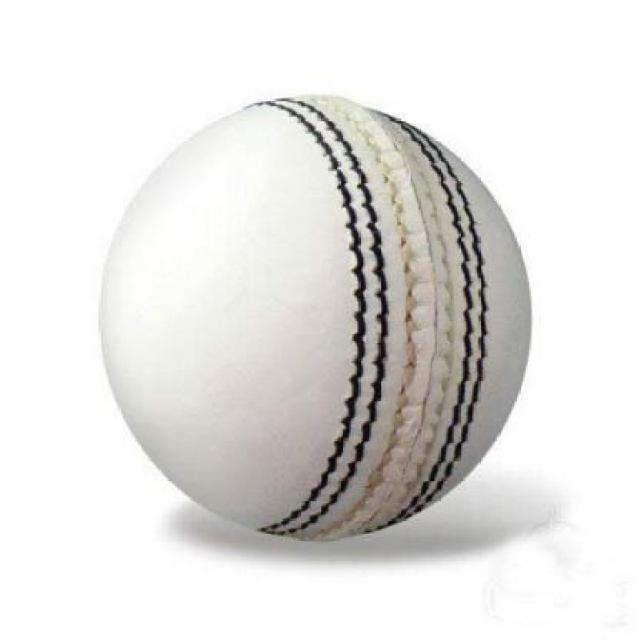ball: (0, 64, 598, 567)
